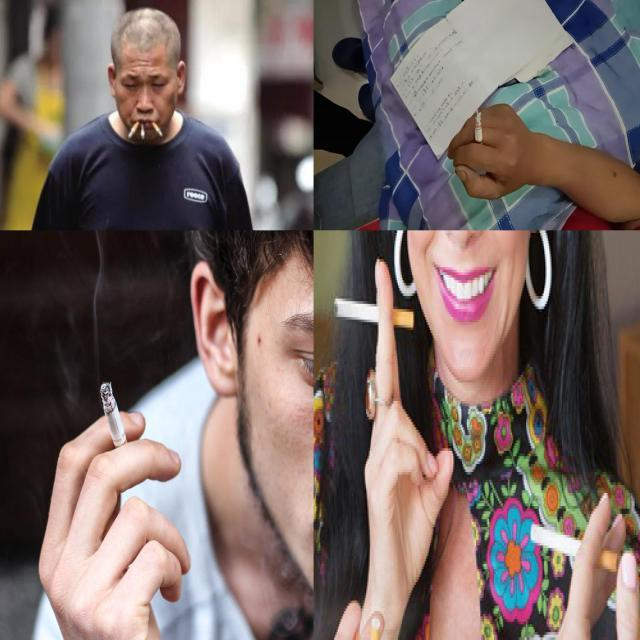smoking: (530, 523, 620, 574), (333, 295, 415, 331), (100, 382, 132, 466), (474, 110, 484, 153), (128, 121, 140, 139), (151, 121, 164, 137), (140, 122, 144, 139)
